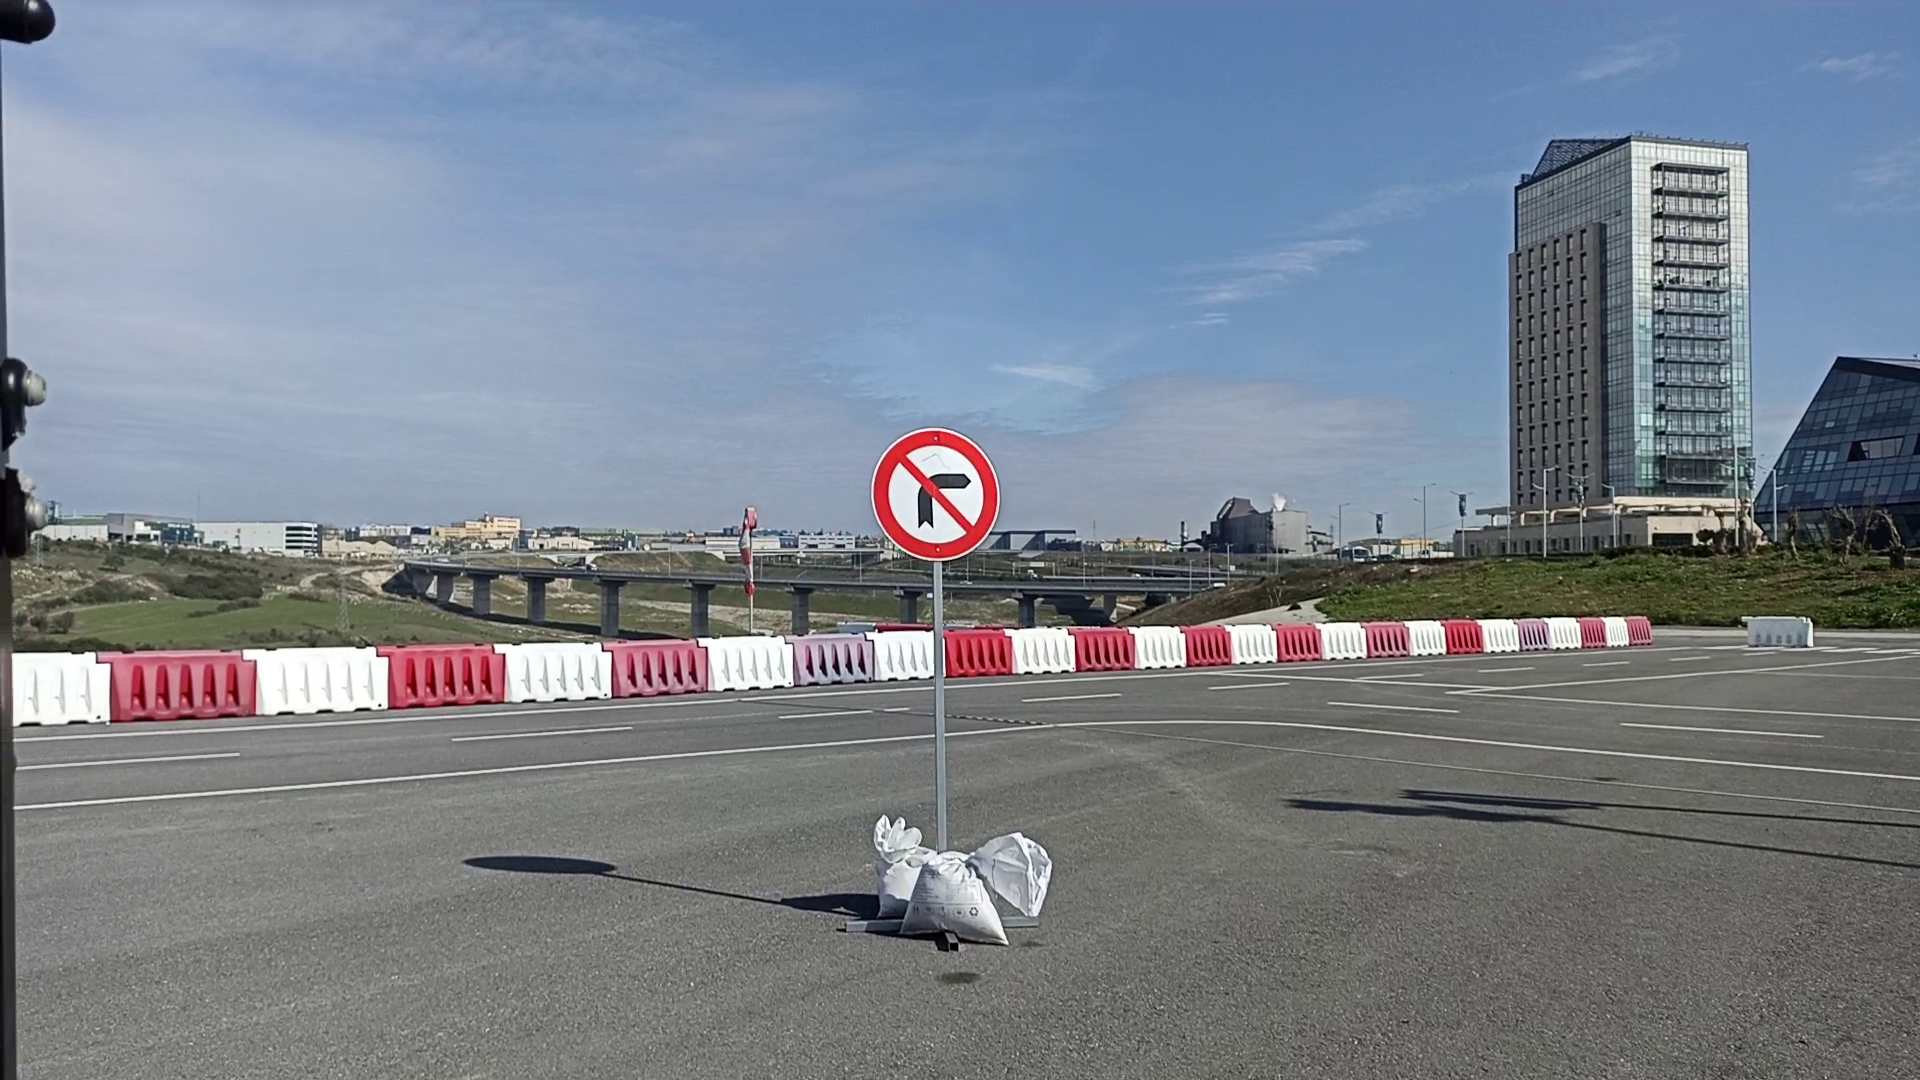noleftturn: (866, 423, 1001, 563)
